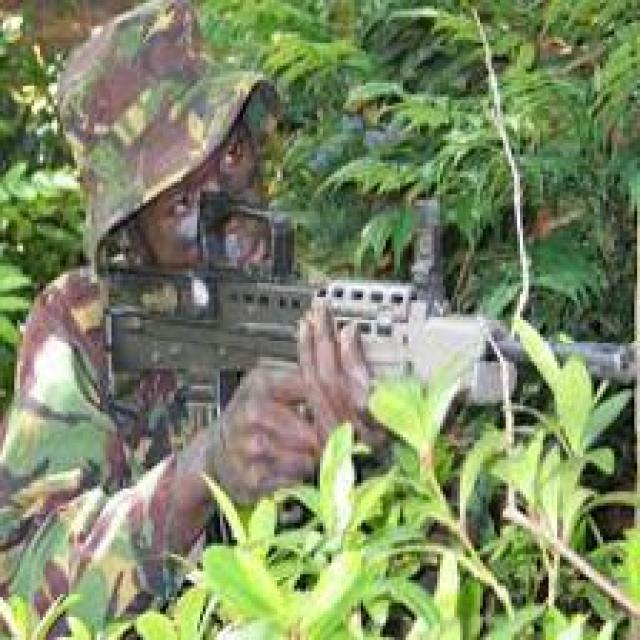Rifle: (81, 177, 638, 449)
